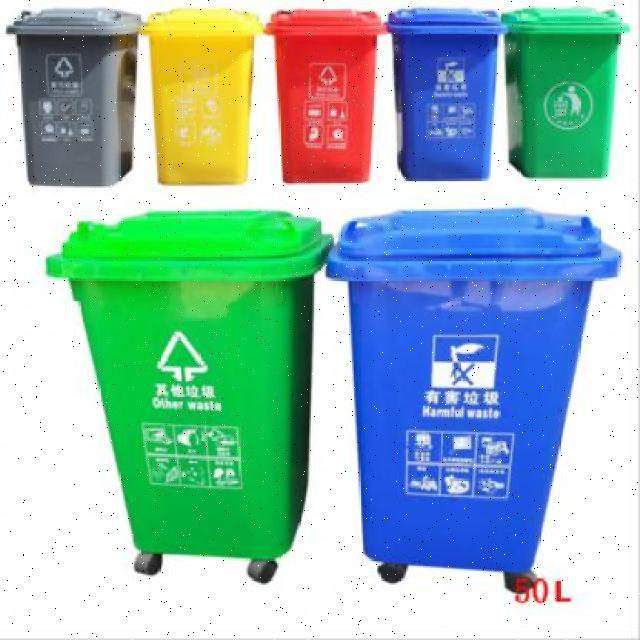garbage container: (320, 202, 631, 605), (48, 200, 330, 603), (499, 3, 635, 197), (3, 6, 142, 189), (382, 3, 507, 192), (140, 7, 265, 190), (264, 7, 390, 184)
